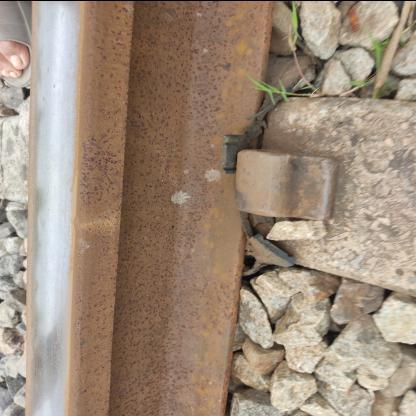Defective: (191, 94, 367, 255)
